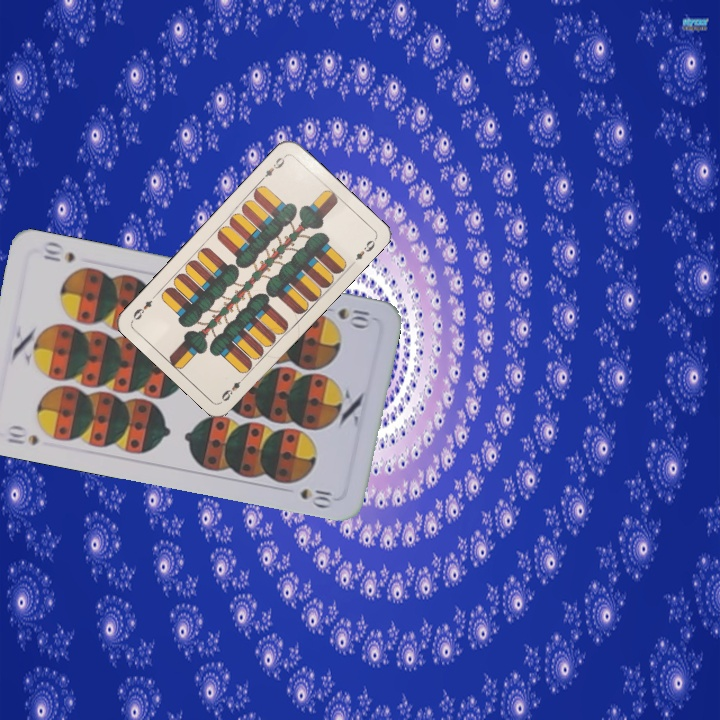E9: (257, 151, 289, 184), (217, 372, 249, 404)
S10: (2, 421, 41, 448), (333, 304, 374, 329)
